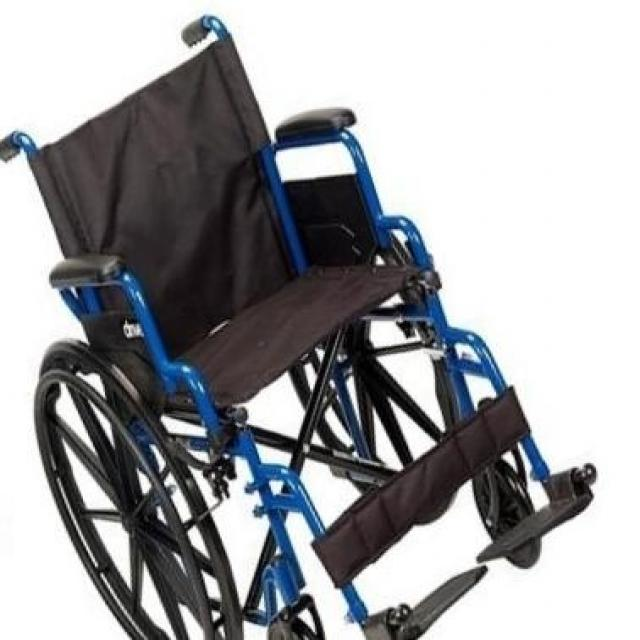wheelchair: (1, 14, 608, 640)
